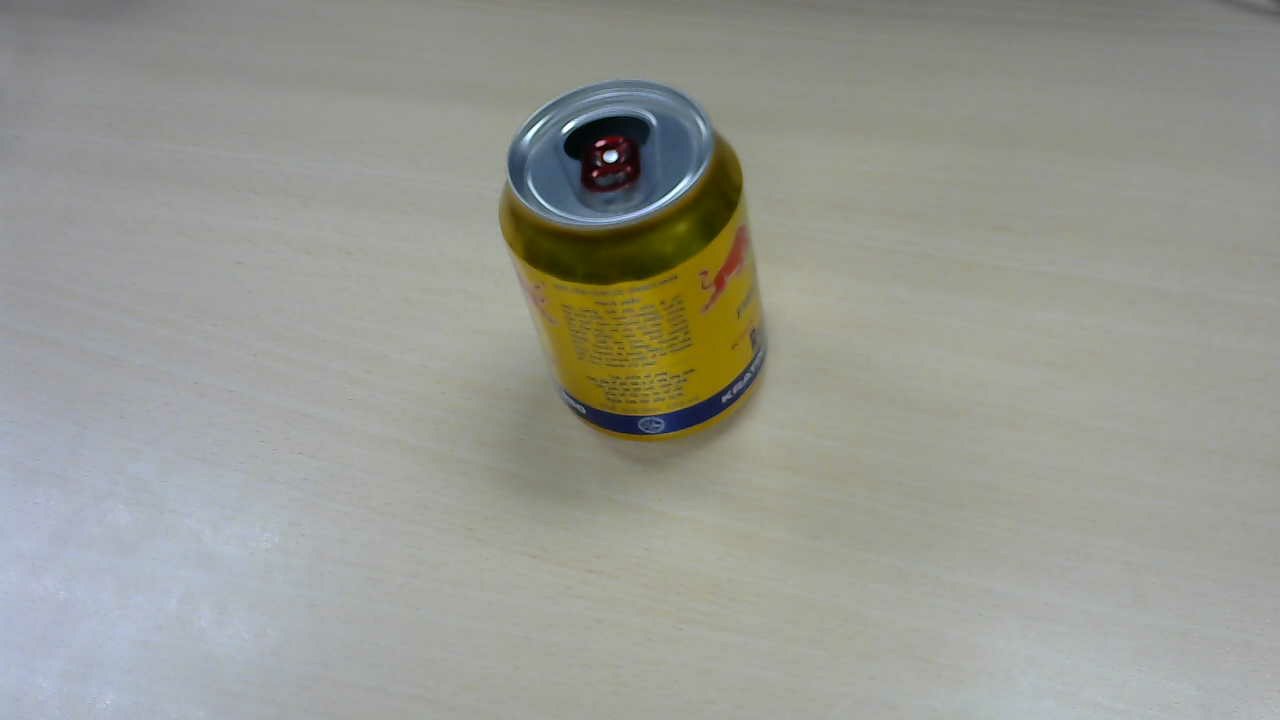Red_Bull: (501, 87, 774, 447)
